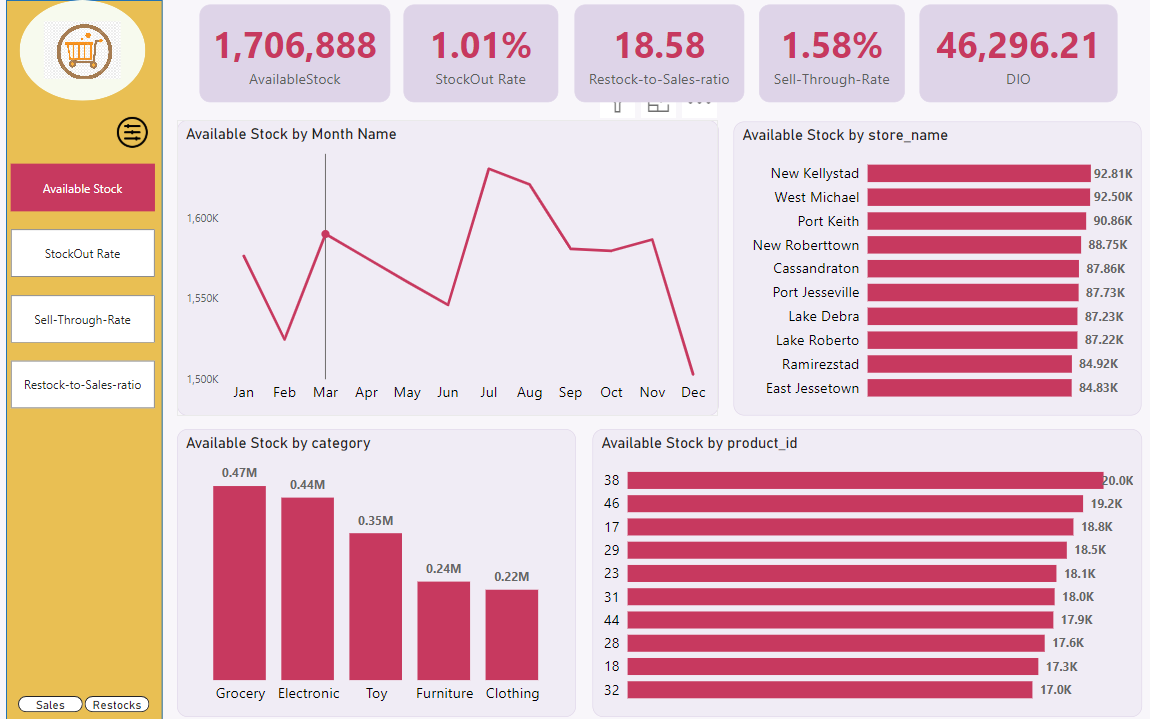

The dashboard page shown, as its layout file describes it:
{"tool":"powerbi","page":{"name":"Inventory","canvas":[1280,800],"ordinal":1},"visuals":[{"type":"shape","box":[6,0,174,800],"z":0},{"type":"lineChart","fields":{"Y":["All Measures.AvailableStock"],"Category":["Date.Month Name"]},"box":[196.7,133.3,601.7,328.3],"z":1000},{"type":"advancedSlicerVisual","fields":{"Values":["Parameter.Parameter"]},"box":[6.7,176.7,170,285],"z":2000},{"type":"clusteredBarChart","fields":{"Y":["All Measures.AvailableStock"],"Category":["stores.store_name"]},"box":[815,135,453.3,326.7],"z":3000},{"type":"clusteredColumnChart","fields":{"Y":["All Measures.AvailableStock"],"Category":["products.category"]},"box":[196.4,476.4,443.6,320],"z":4000},{"type":"barChart","fields":{"Y":["All Measures.AvailableStock"],"Category":["products.product_id"]},"box":[658.2,476.4,610.9,320],"z":5000},{"type":"card","fields":{"Values":["All Measures._StockoutRate"]},"box":[448.3,5,171.7,108.3],"z":6000},{"type":"card","fields":{"Values":["All Measures.Restock-to-Sales-ratio"]},"box":[638.3,5,188.3,108.3],"z":7000},{"type":"card","fields":{"Values":["All Measures.AvailableStock"]},"box":[221.7,5,211.7,108.3],"z":8000},{"type":"card","fields":{"Values":["All Measures.DIO"]},"box":[1021.7,5,220,108.3],"z":9000},{"type":"card","fields":{"Values":["All Measures.SellThroughRate"]},"box":[843.3,5,161.7,108.3],"z":10000},{"type":"image","box":[123.3,123.3,46.7,46.7],"z":11000},{"type":"shape","box":[22,0,140,112],"z":13000,"group":"g1"},{"type":"pageNavigator","box":[20,774,146,18],"z":13000},{"type":"group","id":"g1","title":"Logo","box":[22,0,140,112],"z":14000},{"type":"image","box":[44.2,18,95.6,74],"z":14000,"group":"g1"}]}

Visuals, with their boxes in screenshot pixels (x1, y1, x2, y2), scaled from the page's 1280x800 canvas onto the 1150x719 screenshot:
shape: (5,0,162,718)
lineChart - All Measures.AvailableStock x Date.Month Name: (177,120,717,415)
advancedSlicerVisual - Parameter.Parameter: (6,159,159,415)
clusteredBarChart - All Measures.AvailableStock x stores.store_name: (732,121,1139,415)
clusteredColumnChart - All Measures.AvailableStock x products.category: (176,428,575,716)
barChart - All Measures.AvailableStock x products.product_id: (591,428,1140,716)
card - All Measures._StockoutRate: (403,4,557,102)
card - All Measures.Restock-to-Sales-ratio: (573,4,743,102)
card - All Measures.AvailableStock: (199,4,389,102)
card - All Measures.DIO: (918,4,1116,102)
card - All Measures.SellThroughRate: (758,4,903,102)
image: (111,111,153,153)
shape: (20,0,146,101)
pageNavigator: (18,696,149,712)
"Logo" group: (20,0,146,101)
image: (40,16,126,83)
